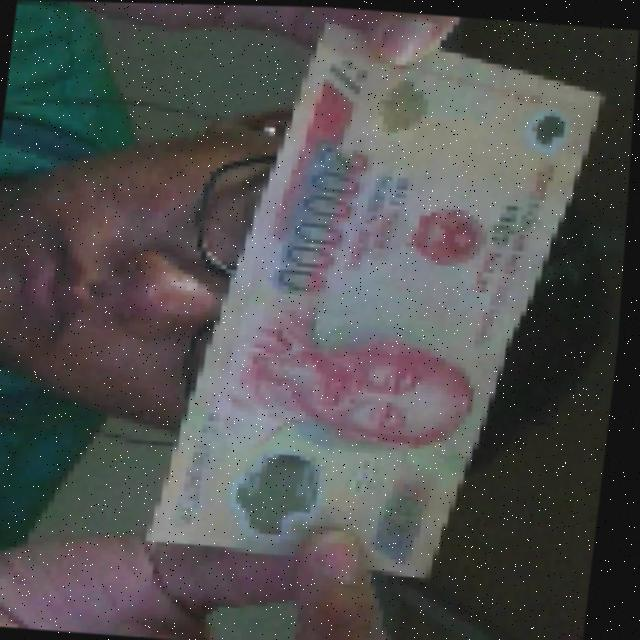200 000 VND: (143, 5, 624, 593)
